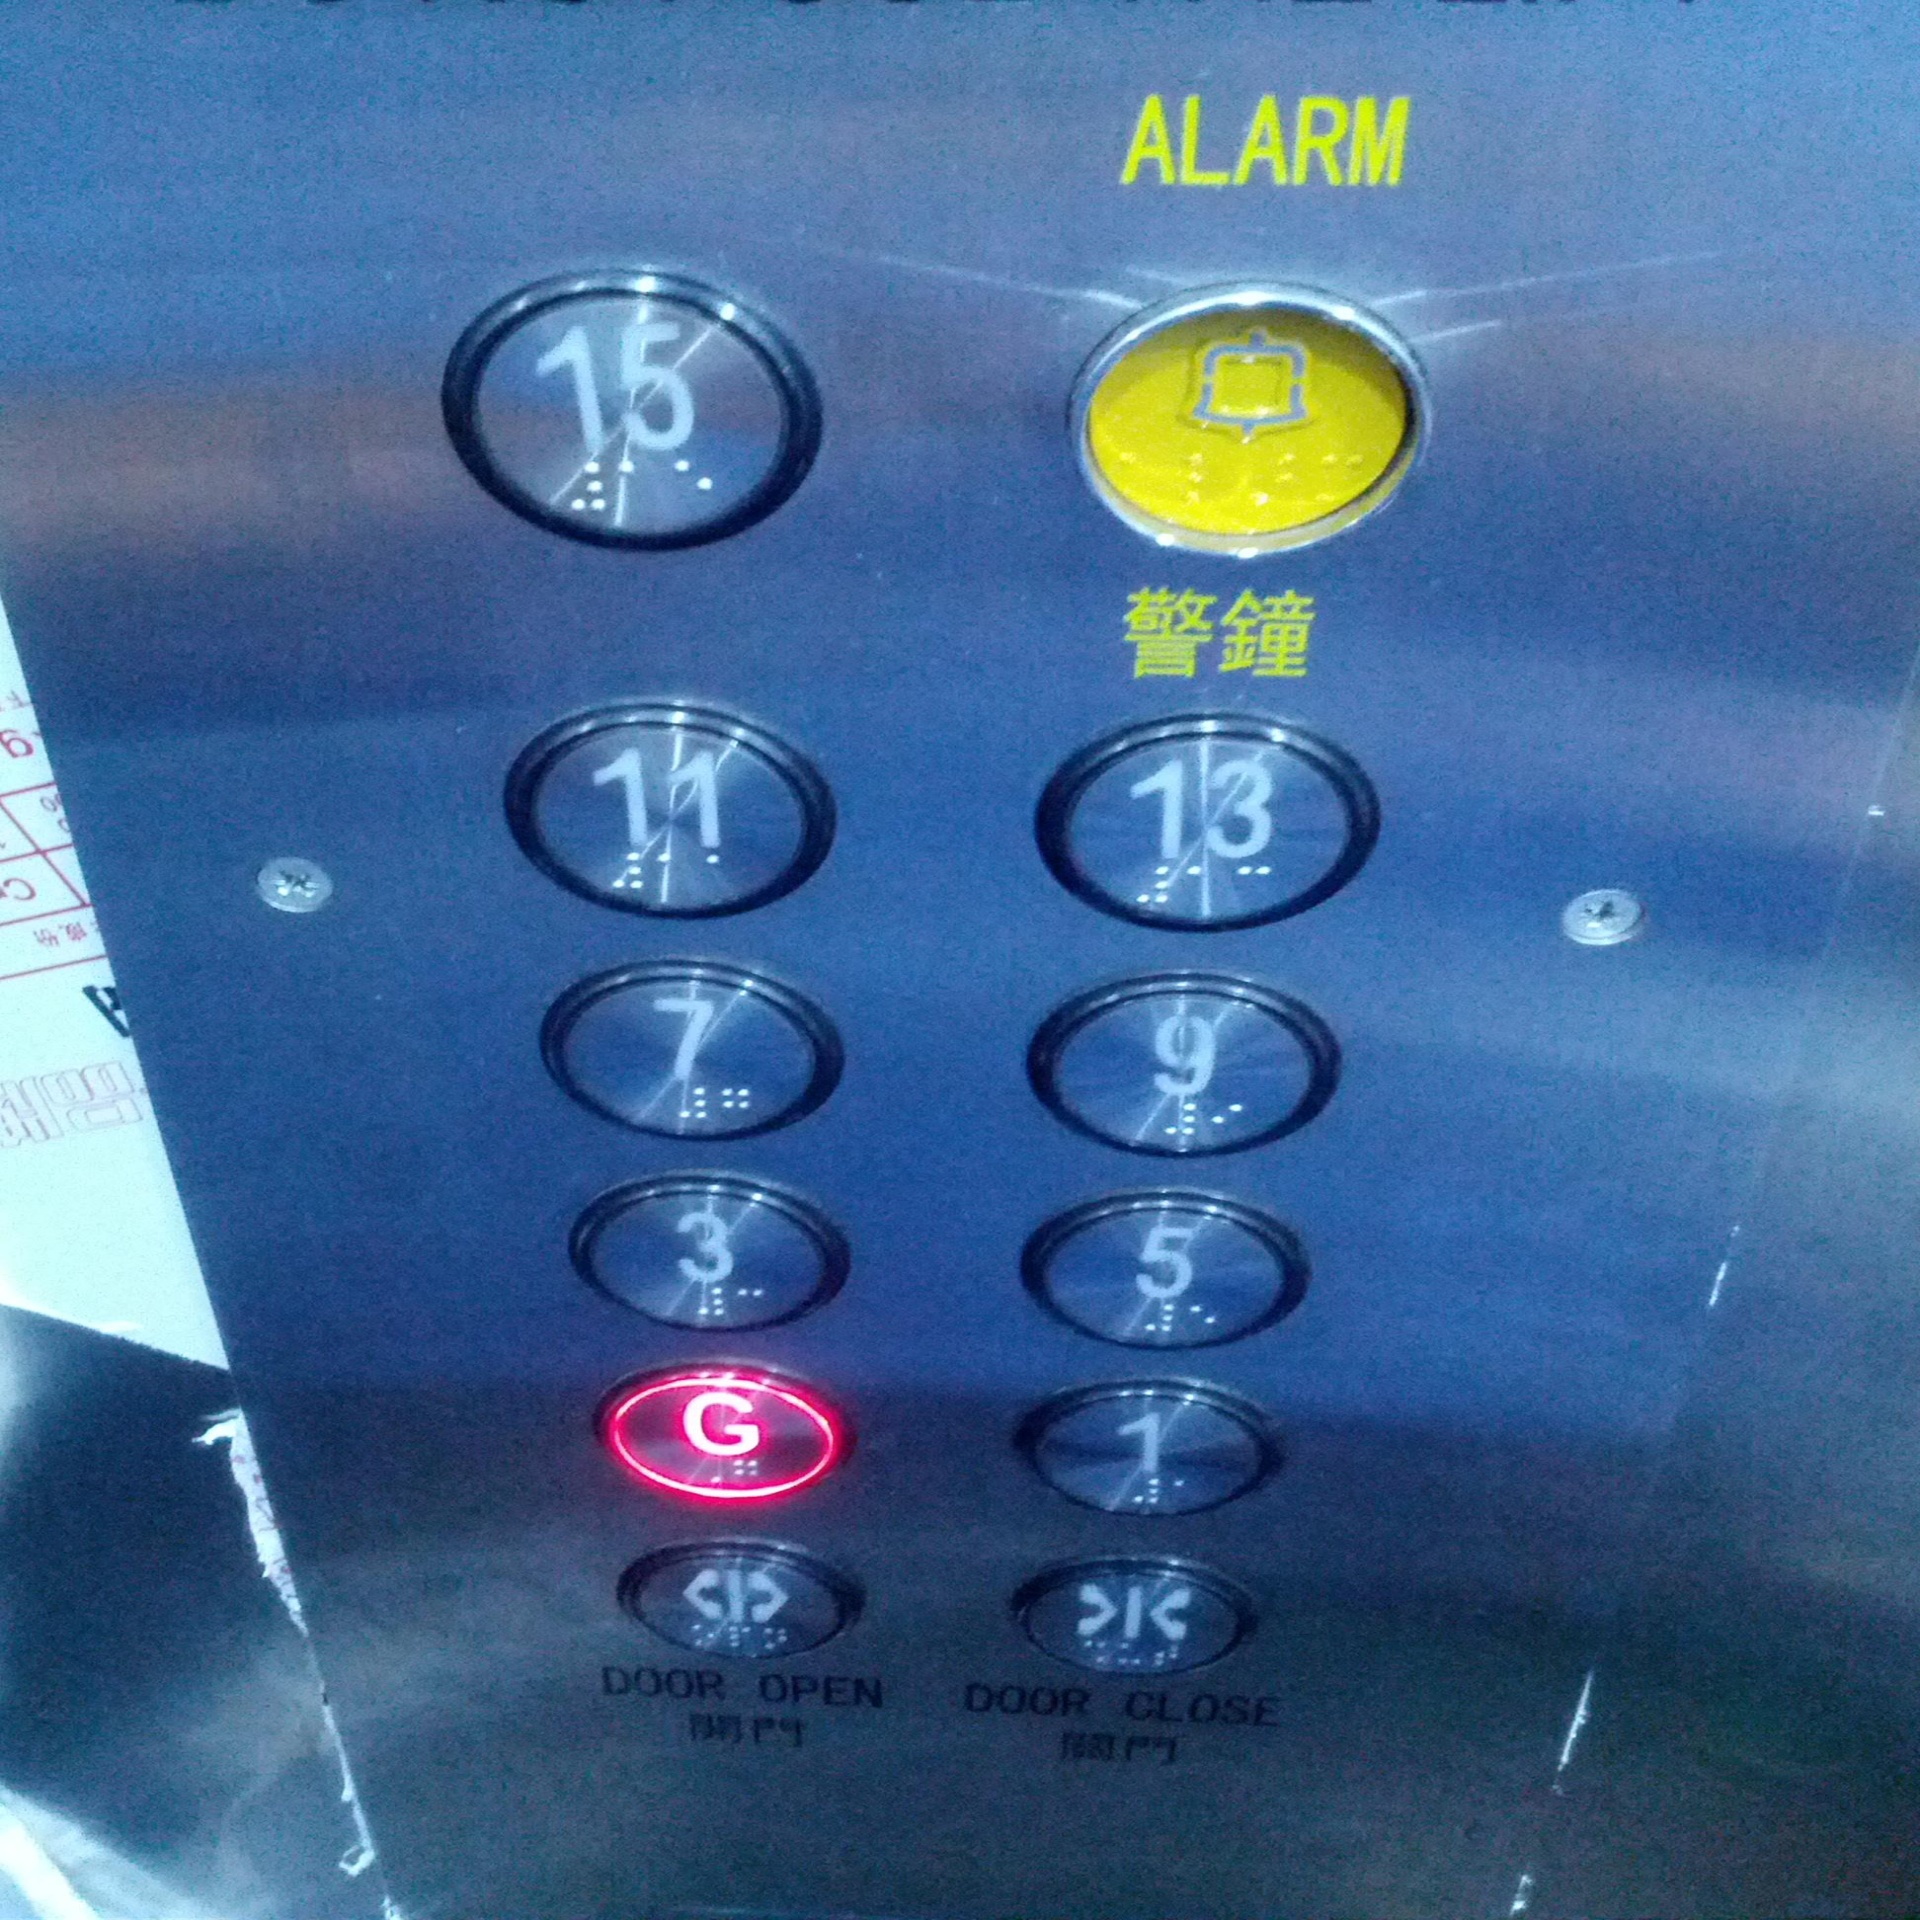1: (1009, 1373, 1284, 1519)
11: (498, 687, 839, 935)
13: (1032, 702, 1384, 935)
15: (440, 260, 828, 563)
3: (563, 1162, 856, 1343)
5: (1009, 1182, 1313, 1357)
7: (535, 956, 842, 1150)
9: (1015, 969, 1343, 1159)
G: (587, 1352, 858, 1514)
alarm: (1064, 271, 1438, 577)
close: (1004, 1551, 1268, 1684)
open: (614, 1530, 870, 1669)
